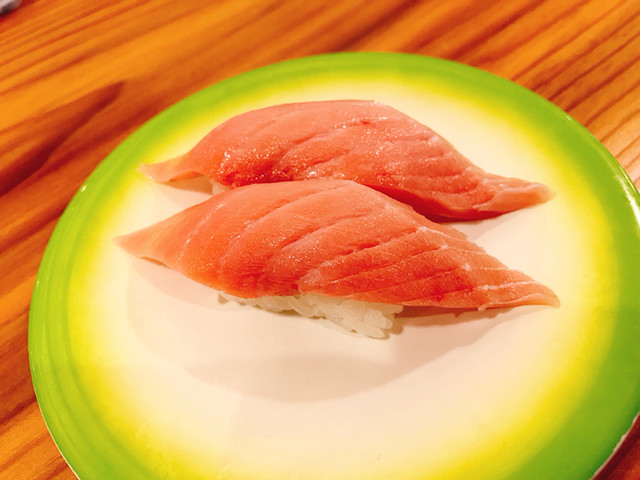medium_fatty_tuna: (124, 183, 549, 339), (165, 100, 535, 217)
